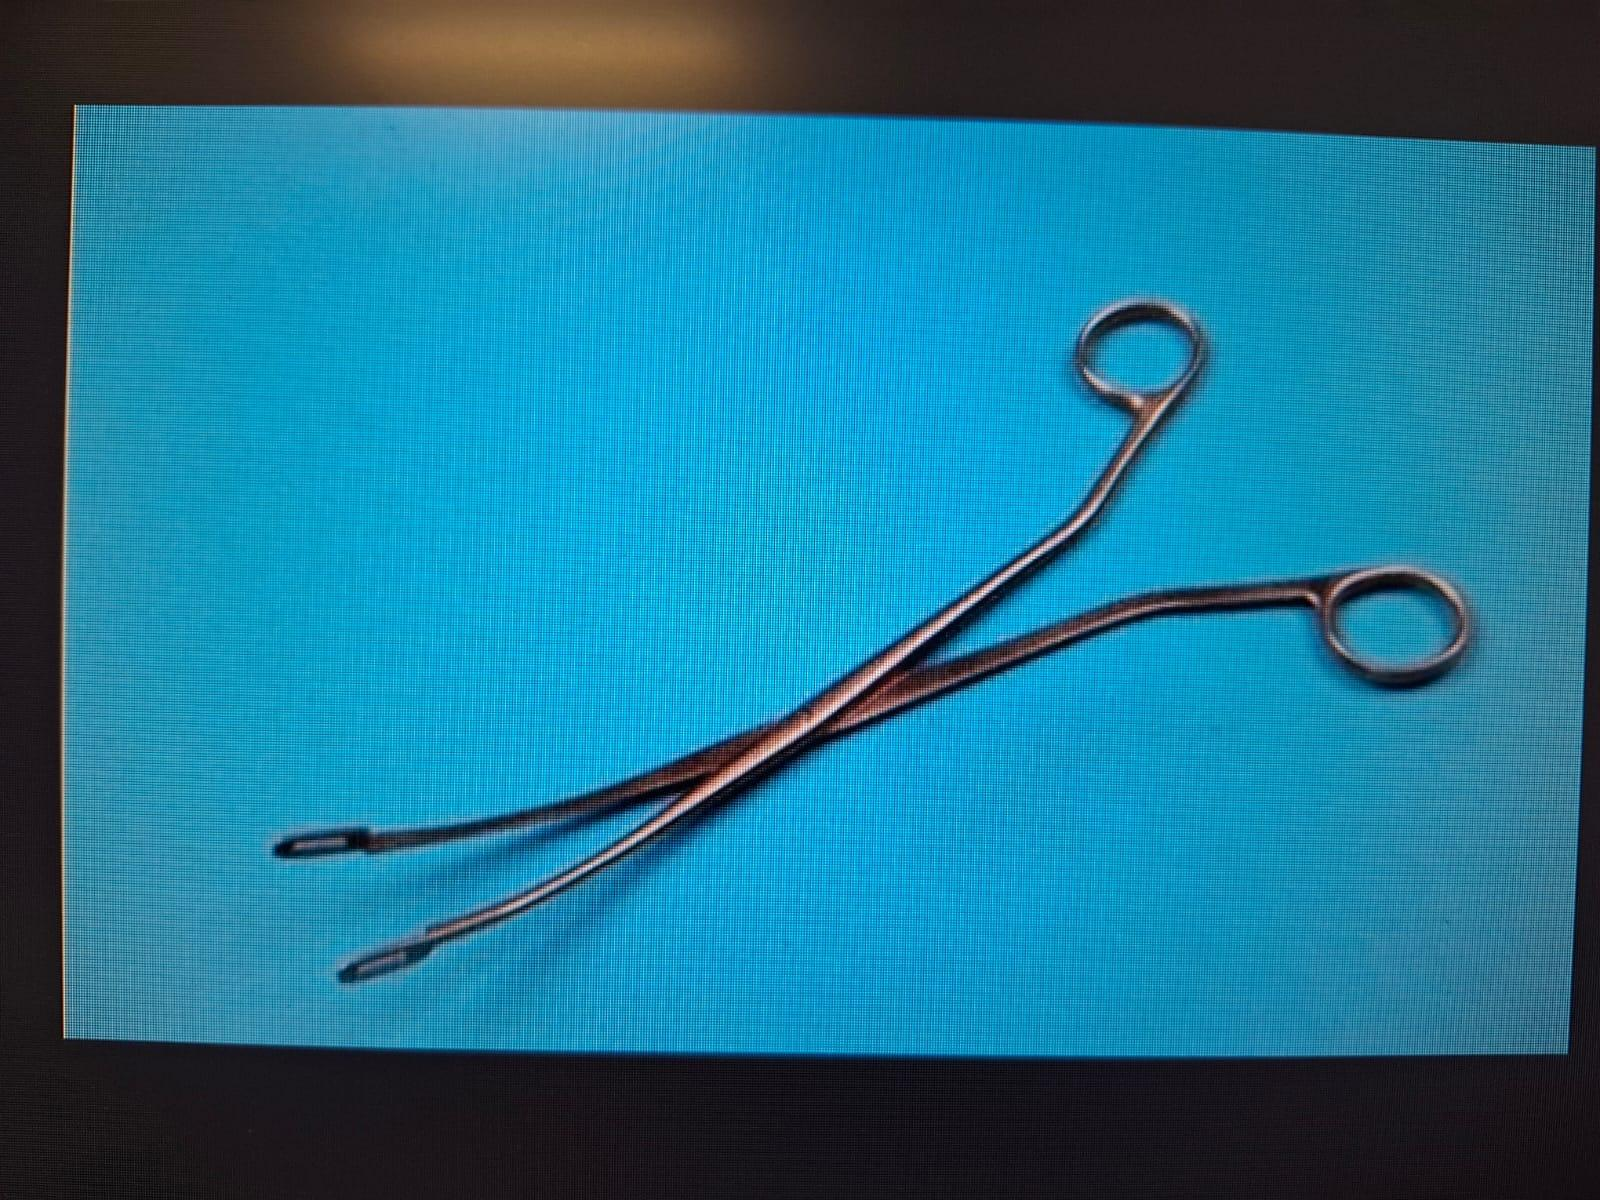Desjardin Forceps: (249, 284, 1487, 1010)
